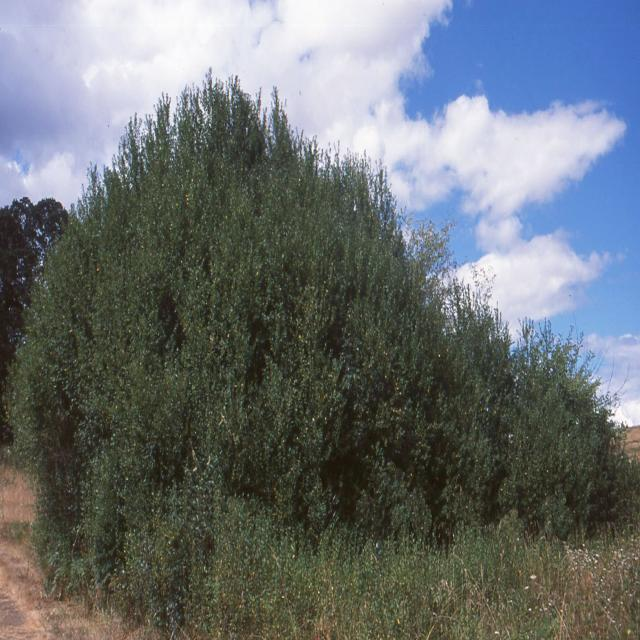Prunus emarginata: (14, 58, 639, 596)
